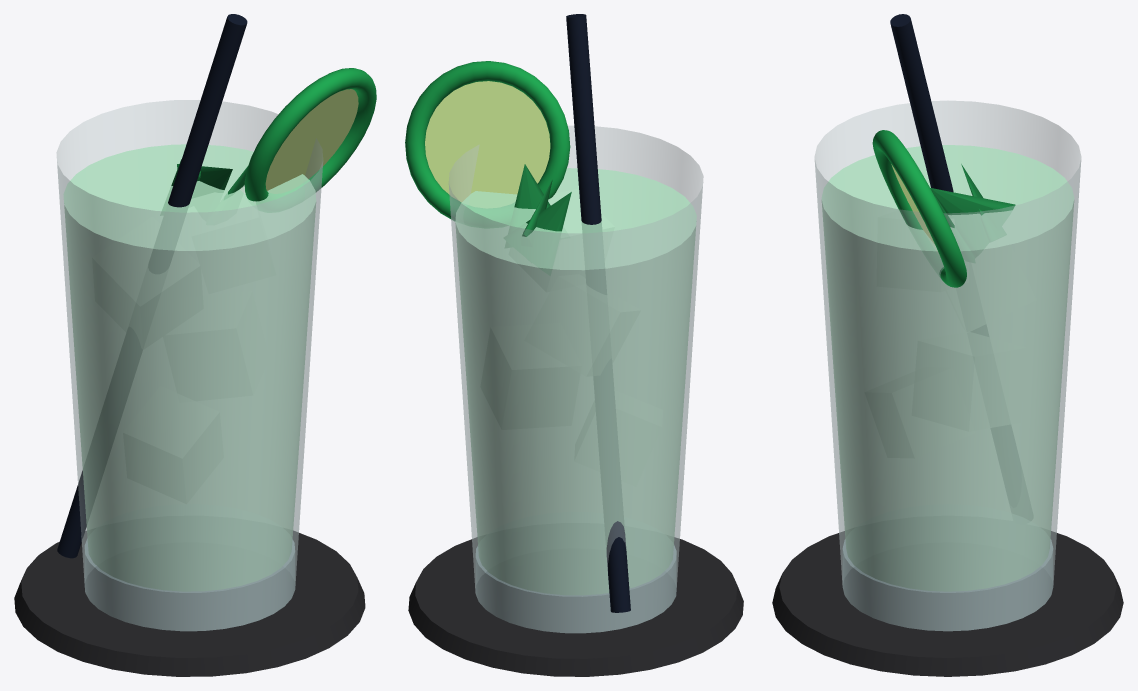
Rendered from lime-soda.glb.
3 renders of one model, left to right at view 1: azimuth 30°, elevation 25°; view 2: azimuth 150°, elevation 25°; view 3: azimuth 270°, elevation 25°, orthographic. The views are drawn at different scales.
Size of the model in its own units: 0.109 by 0.1873 by 0.1.
